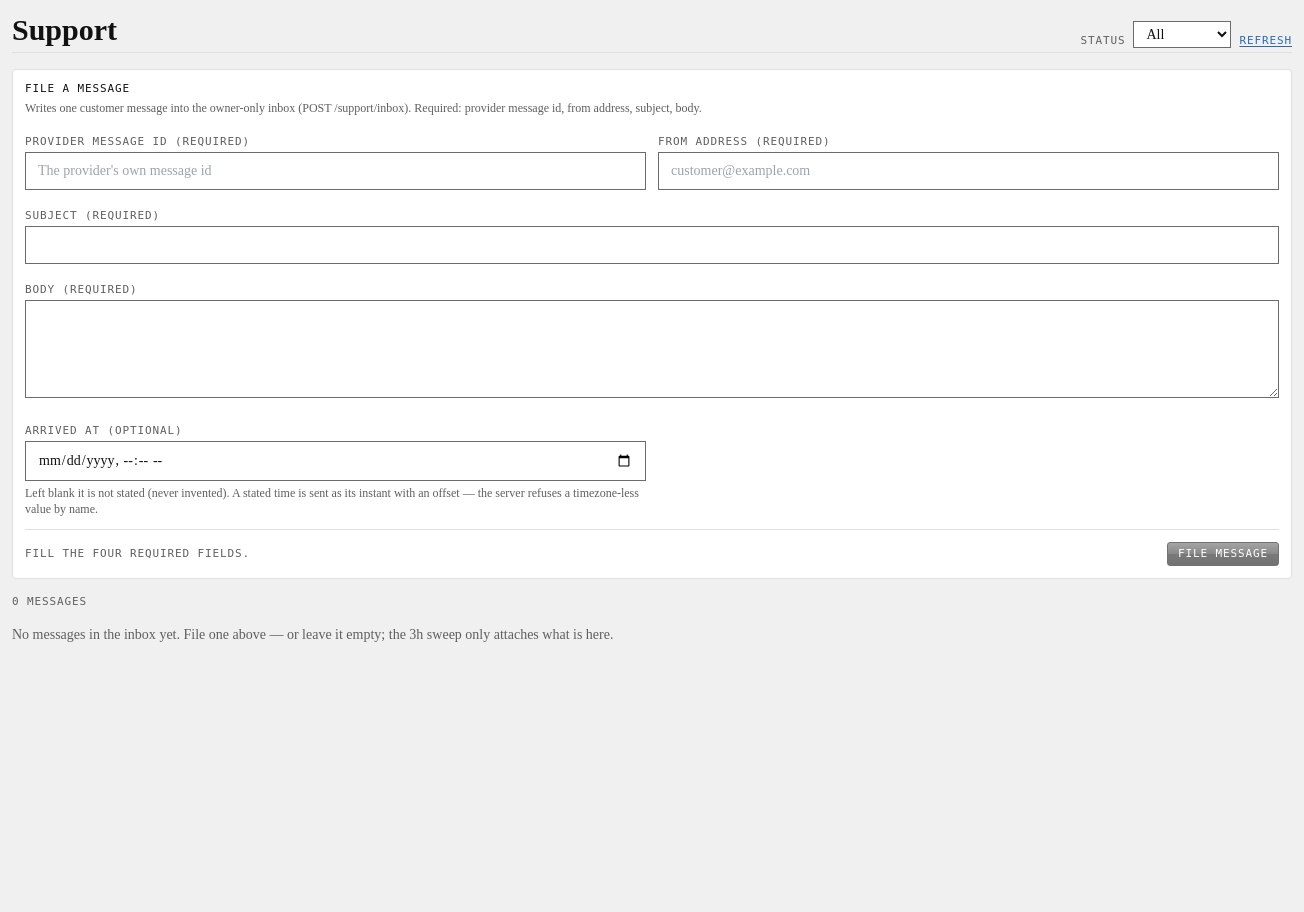
support inbox composer › POSTs the exact create body (received_at omitted when blank), reports the stored row and re-reads the list
The width and height of the screenshot is (1304, 912).
Expected: the text "No messages in the inbox" is shown, [12, 627, 156, 642]
Type "pmid-9" into the field labelled "Provider message id (required)" at x=336, y=171, box [25, 152, 646, 190]
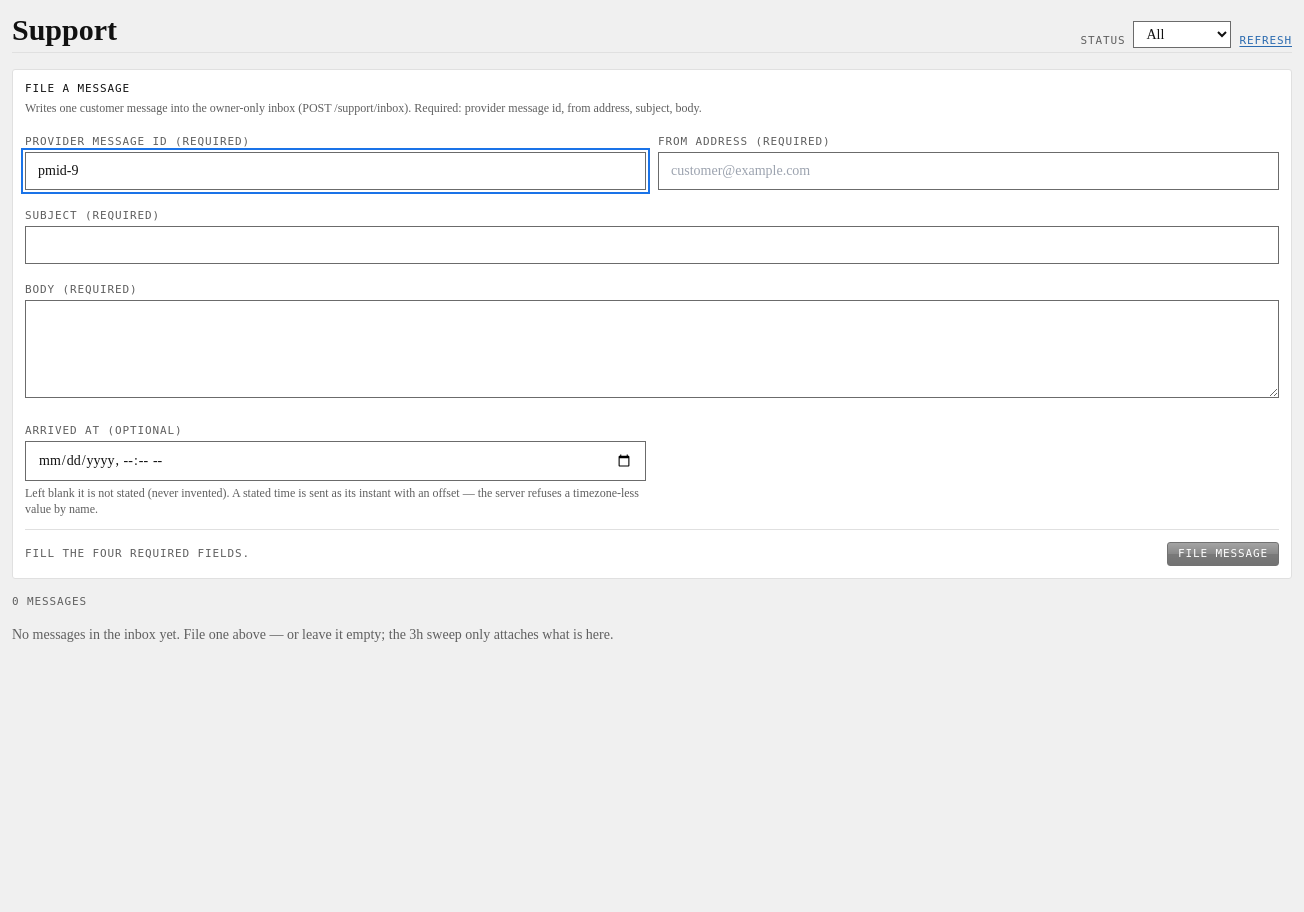
Type "buyer@example.com" into the field labelled "From address (required)" at x=968, y=171, box [658, 152, 1279, 190]
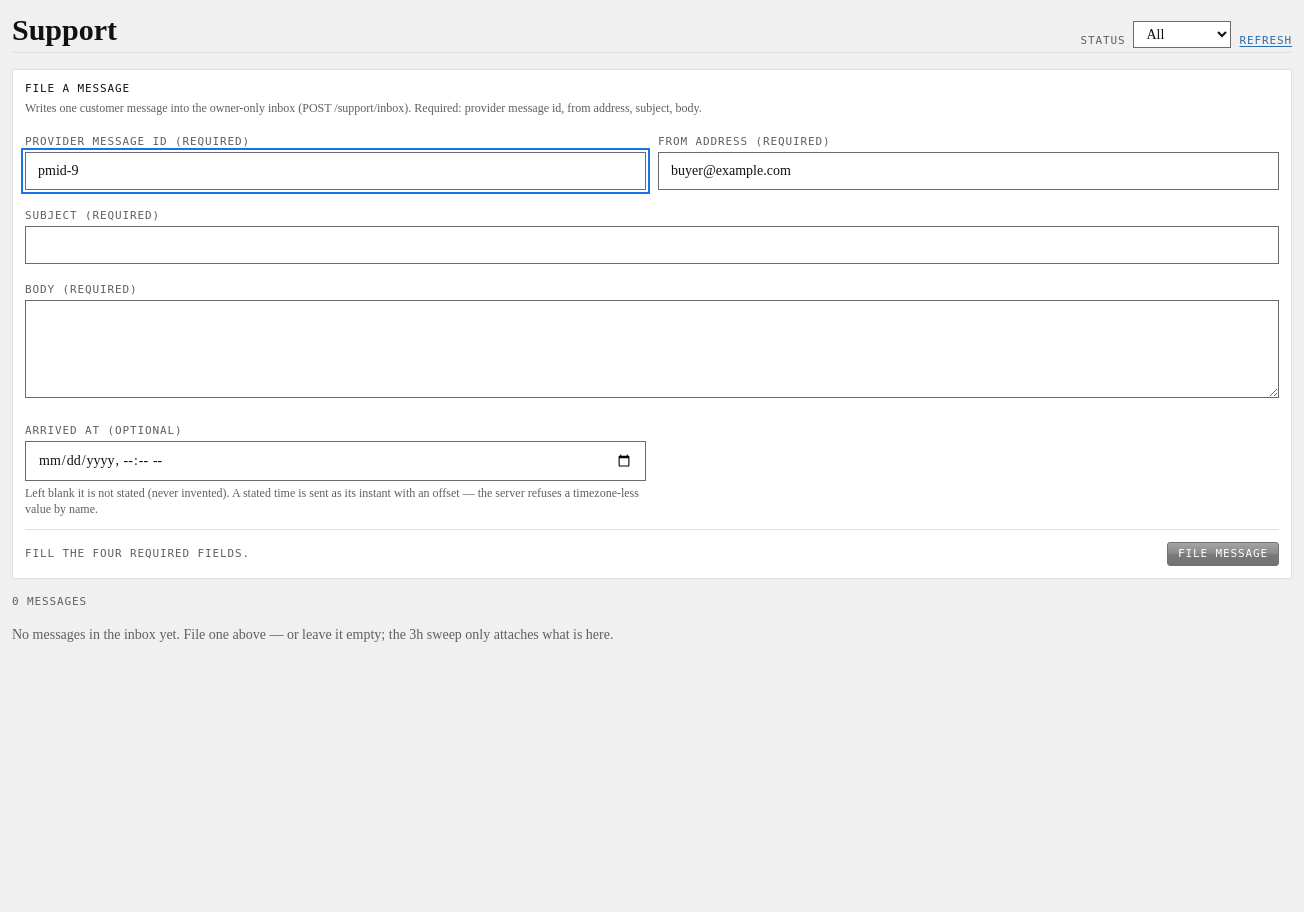
Type "Cannot log in" into the field labelled "Subject (required)" at x=652, y=245, box [25, 226, 1279, 264]
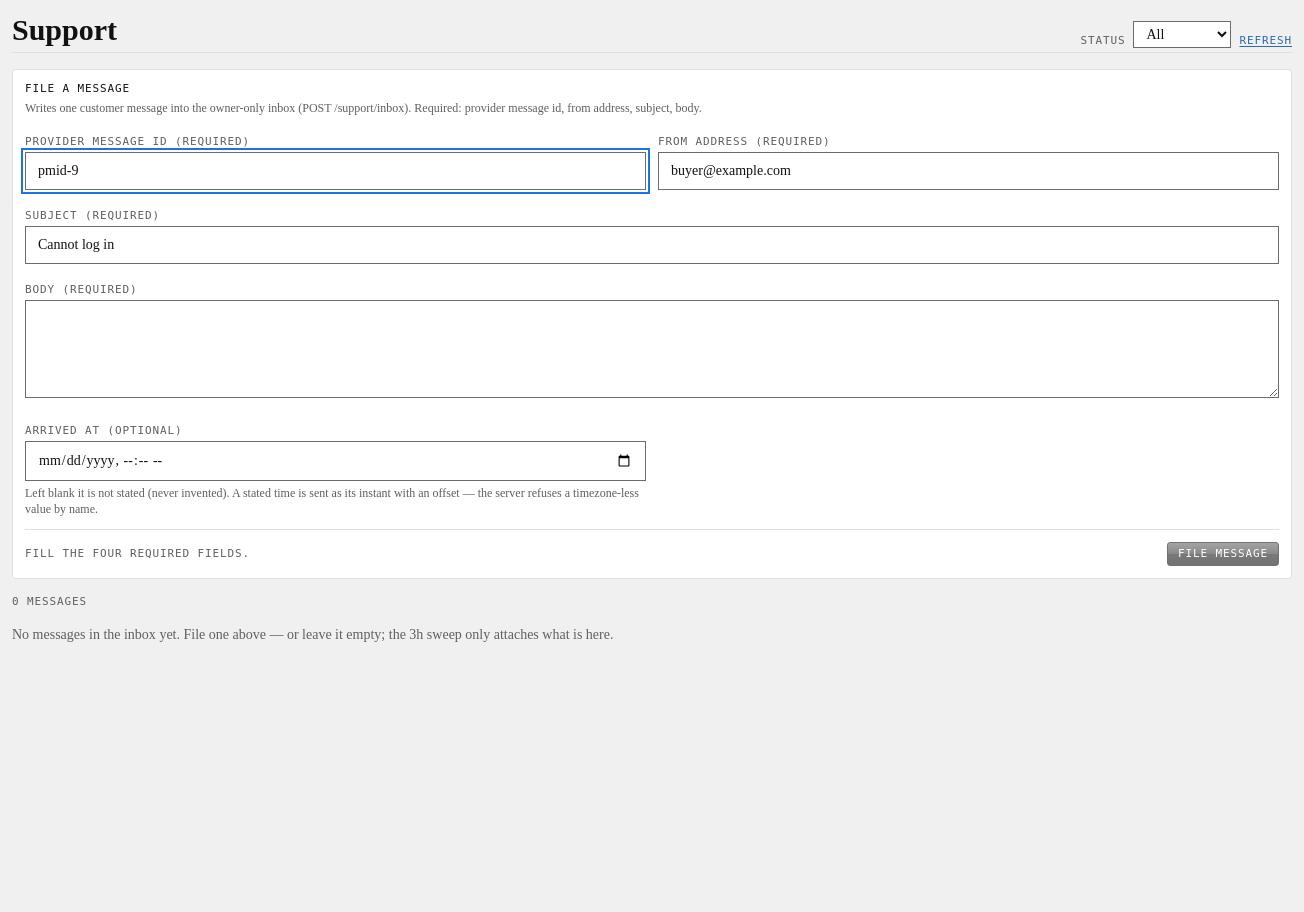
Type "Password reset does nothing." into the text box labelled "Body (required)" at x=652, y=349, box [25, 300, 1279, 398]
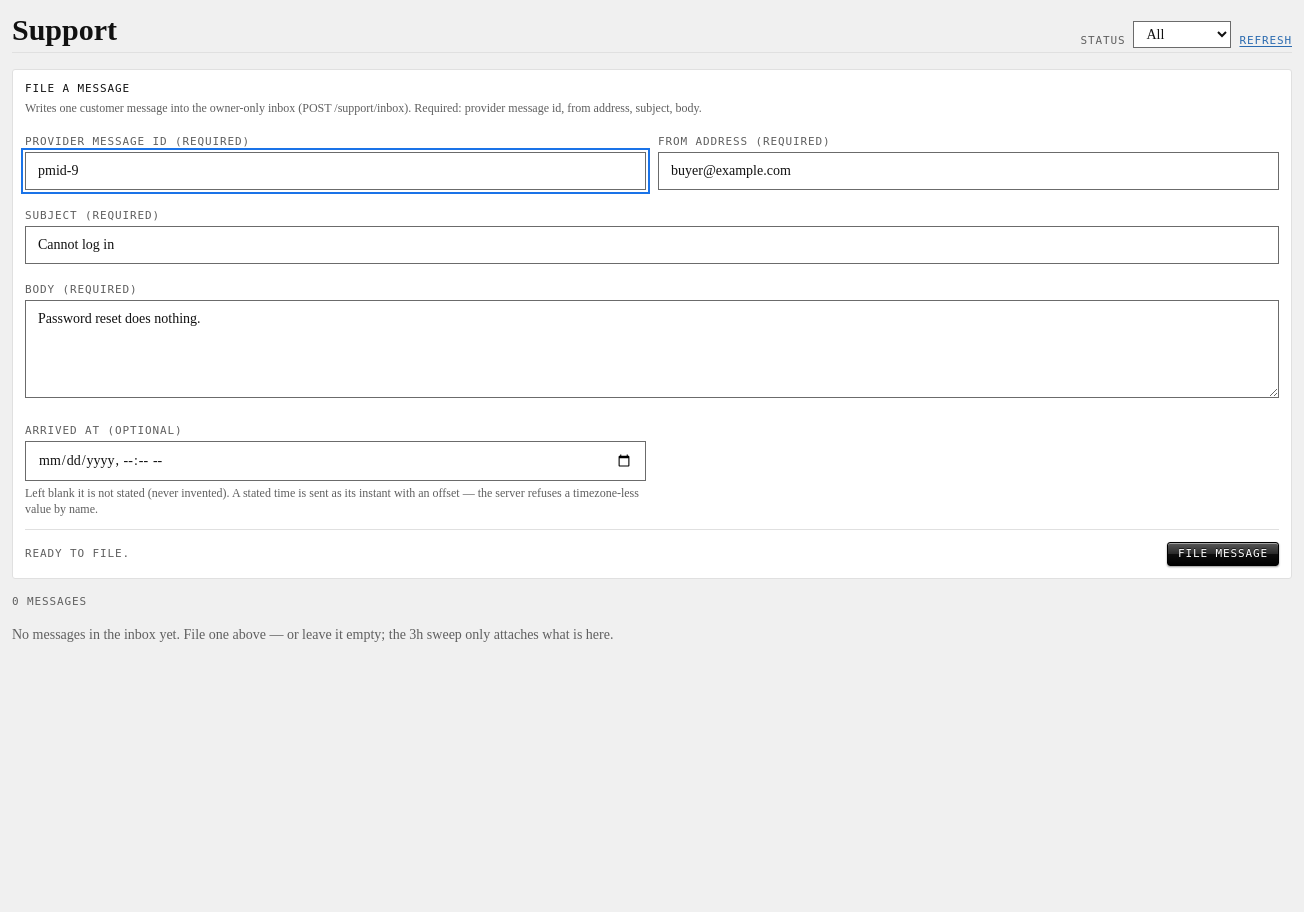
Click the button "File message" at x=1223, y=554, box [1167, 542, 1279, 566]
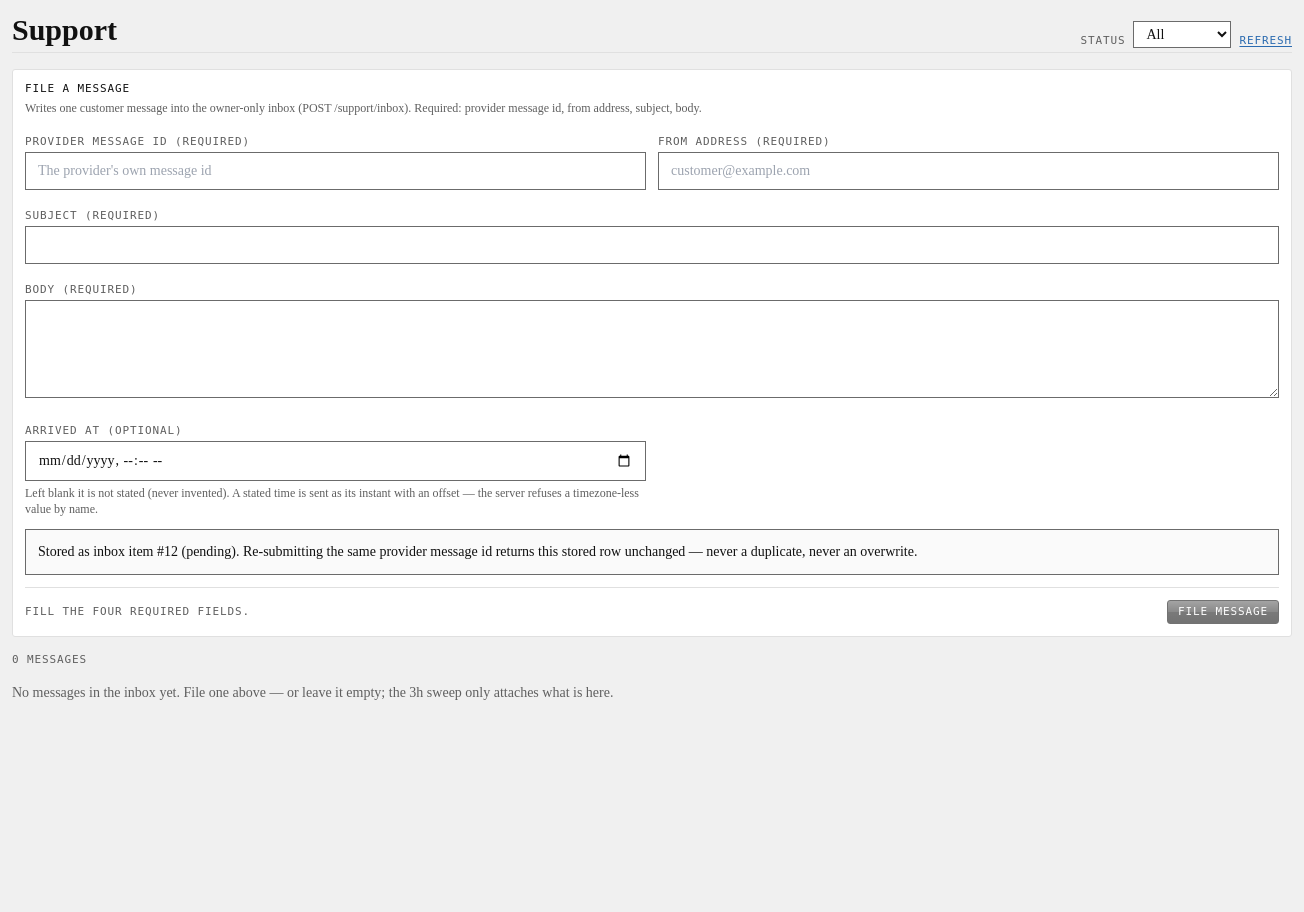
Now the message shows "Stored as inbox item #12", box [38, 544, 917, 559]
Now the message shows "returns this stored row unchanged", box [38, 544, 917, 559]
